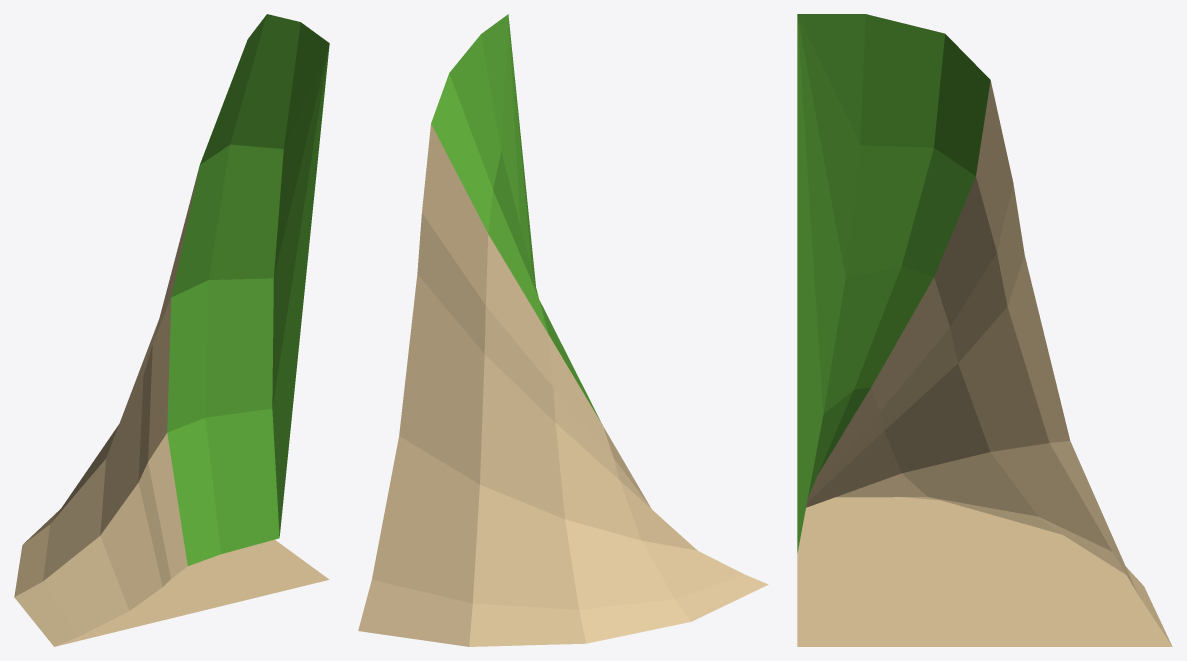
The model's file is margem-ponta-e.glb.
3 views of the same model, side by side, from view 1: azimuth 30°, elevation 25°; view 2: azimuth 150°, elevation 25°; view 3: azimuth 270°, elevation 25° (orthographic). The views are drawn at different scales.
Parts seen in each view (by area): view 1: MargemPontaE; view 2: MargemPontaE; view 3: MargemPontaE.
Boxes of the visible parts, left/top/right/bottom form: MargemPontaE: left=14, top=14, right=329, bottom=646; MargemPontaE: left=358, top=14, right=768, bottom=646; MargemPontaE: left=797, top=14, right=1172, bottom=646.
Bounding box in the file's own units: 0.33 × 0.614 × 0.33.
